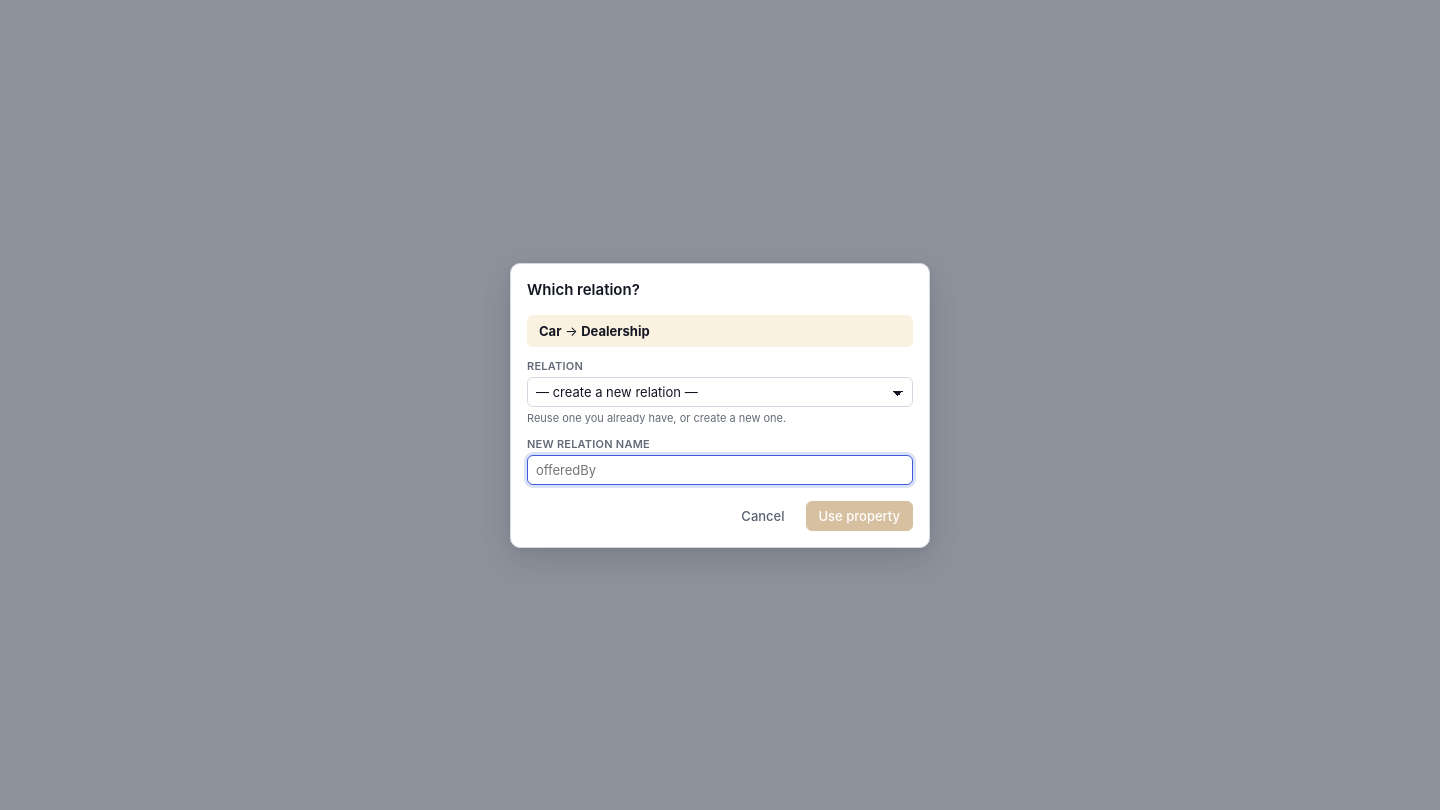
it: ConnectionPicker › refuses to confirm a new property with no usable name
Check: the button with test id "confirm-connection" is disabled, box [806, 500, 913, 530]
Step 1. Type "///" into the field named "New relation name" → [720, 470], box [527, 454, 913, 484]
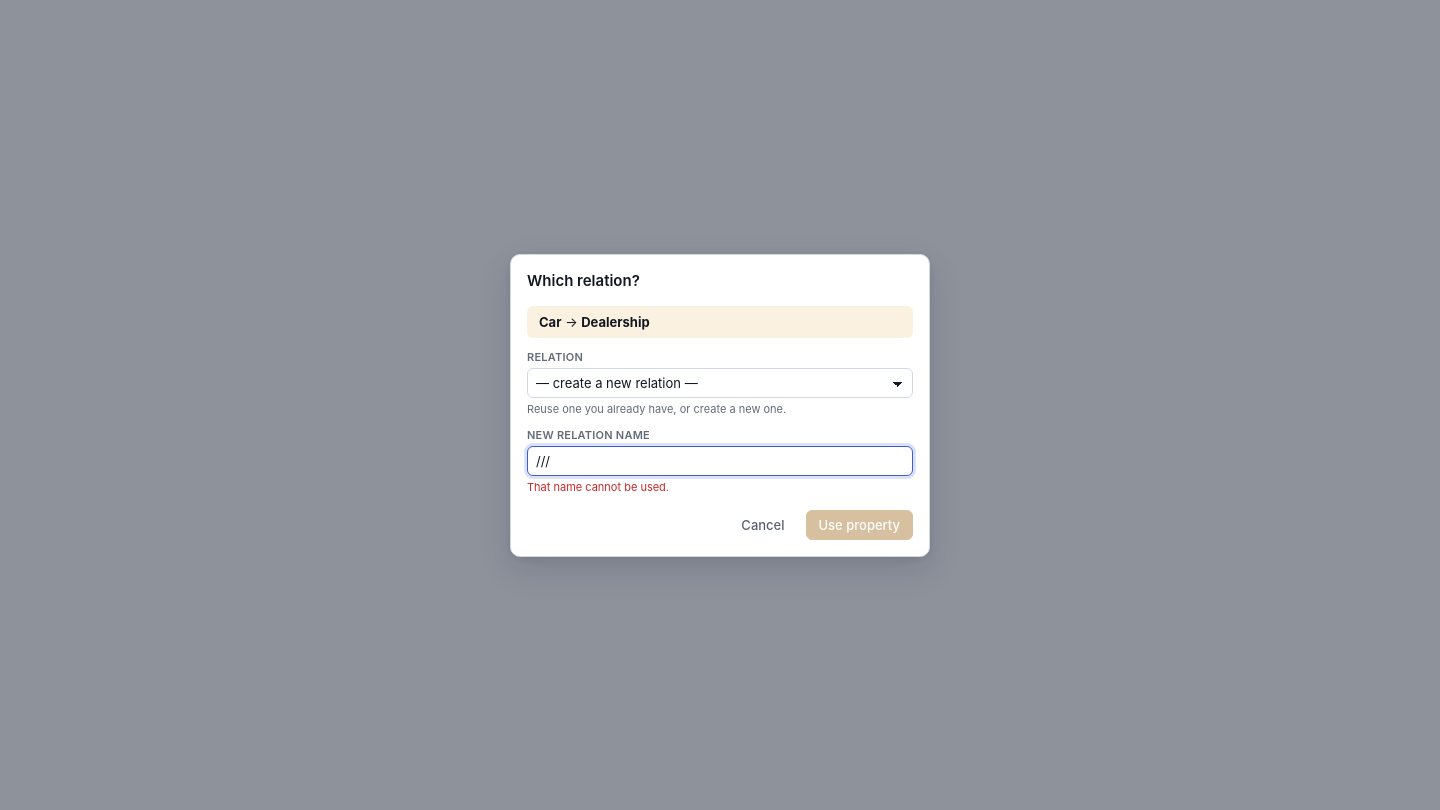
Check: the button with test id "confirm-connection" is disabled, box [806, 510, 913, 540]
Check: the text "That name cannot be used." is shown, box [527, 480, 669, 494]
